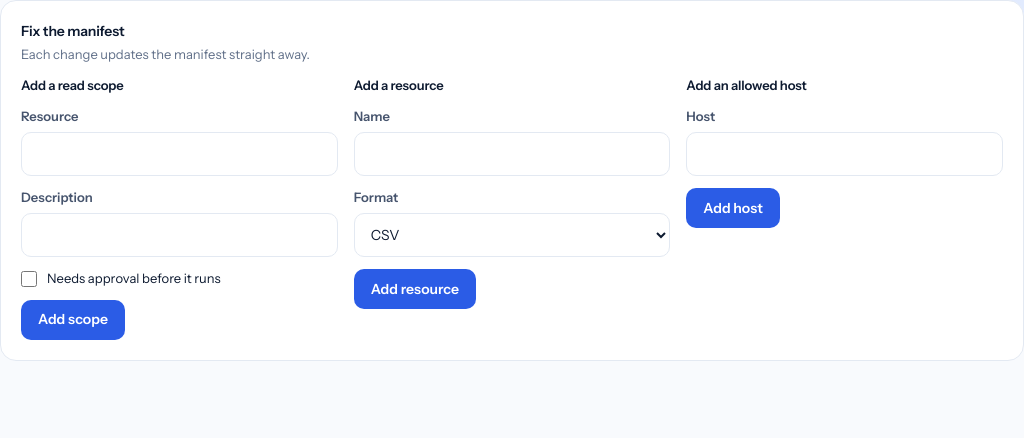
Test: shows a patch failure in the banner and keeps what was typed
Type "x" into the field labelled "Resource".
click(179, 154); type("x")  # box [21,132,338,176]
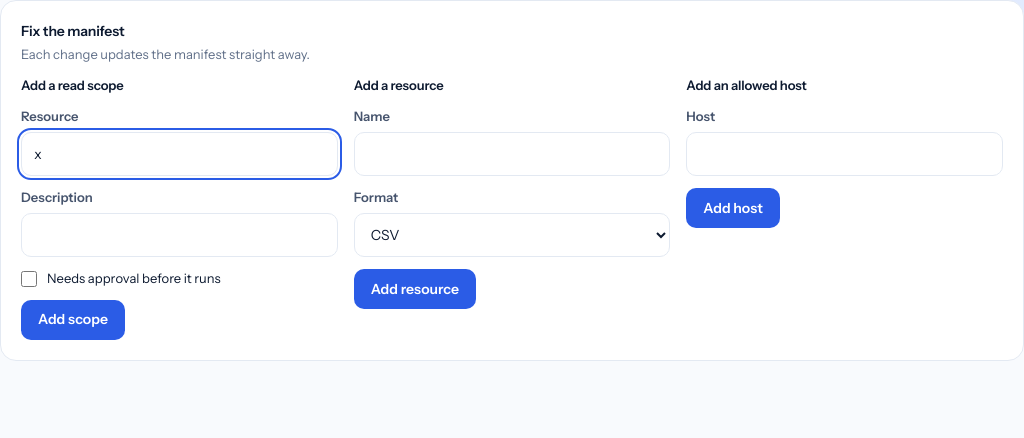
Click the button "Add scope".
click(73, 320)  # box [21,300,125,340]
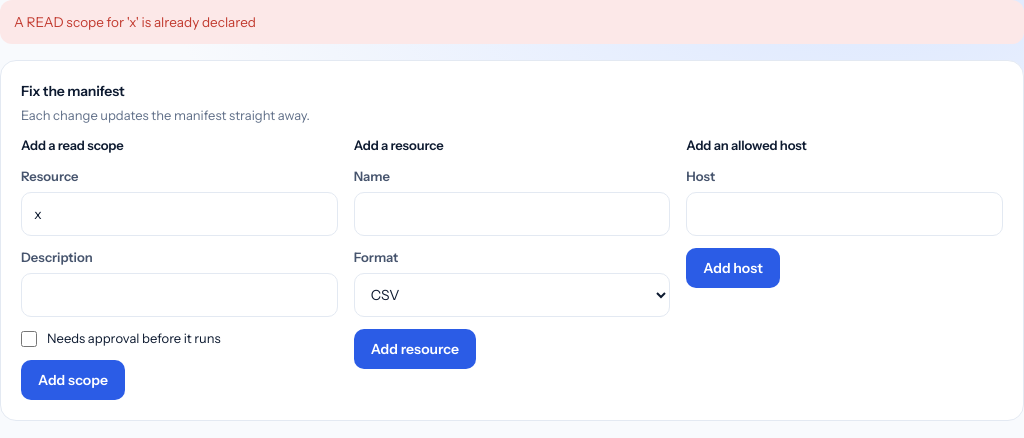
expect the message reads "A READ scope for 'x' is already declared": met, box [14,14,256,30]
